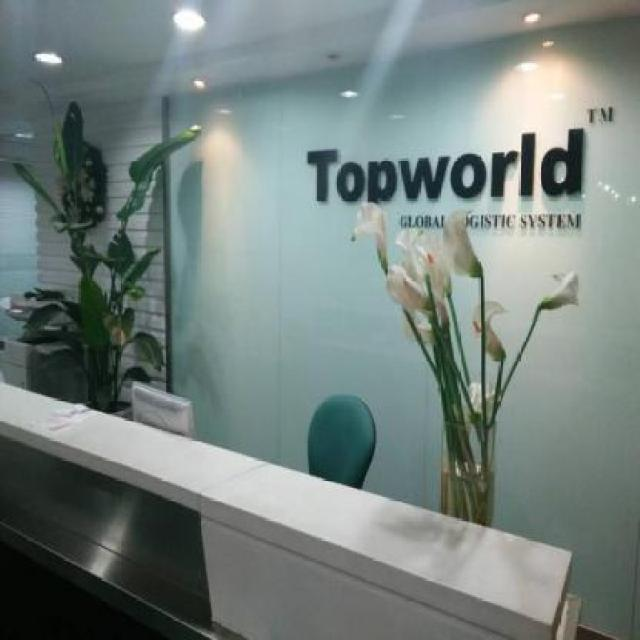frontdesk: (0, 357, 587, 640)
